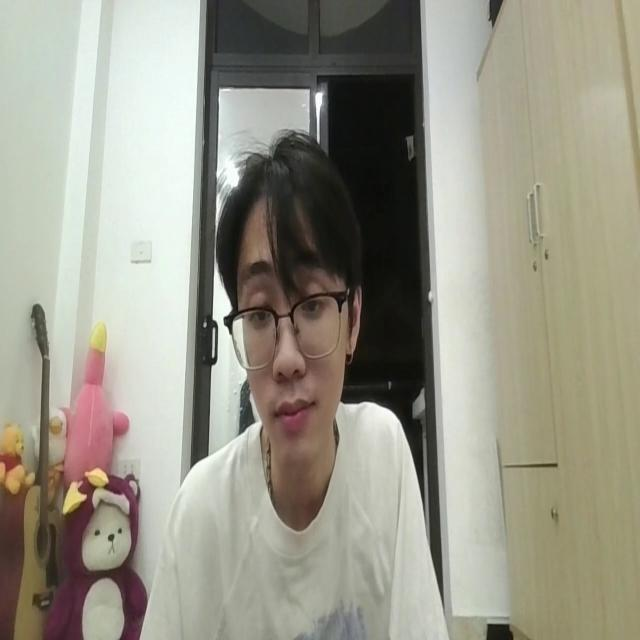student: (139, 130, 447, 640)
